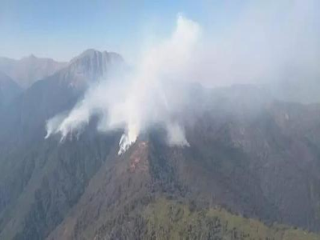smoke: (41, 26, 213, 155)
